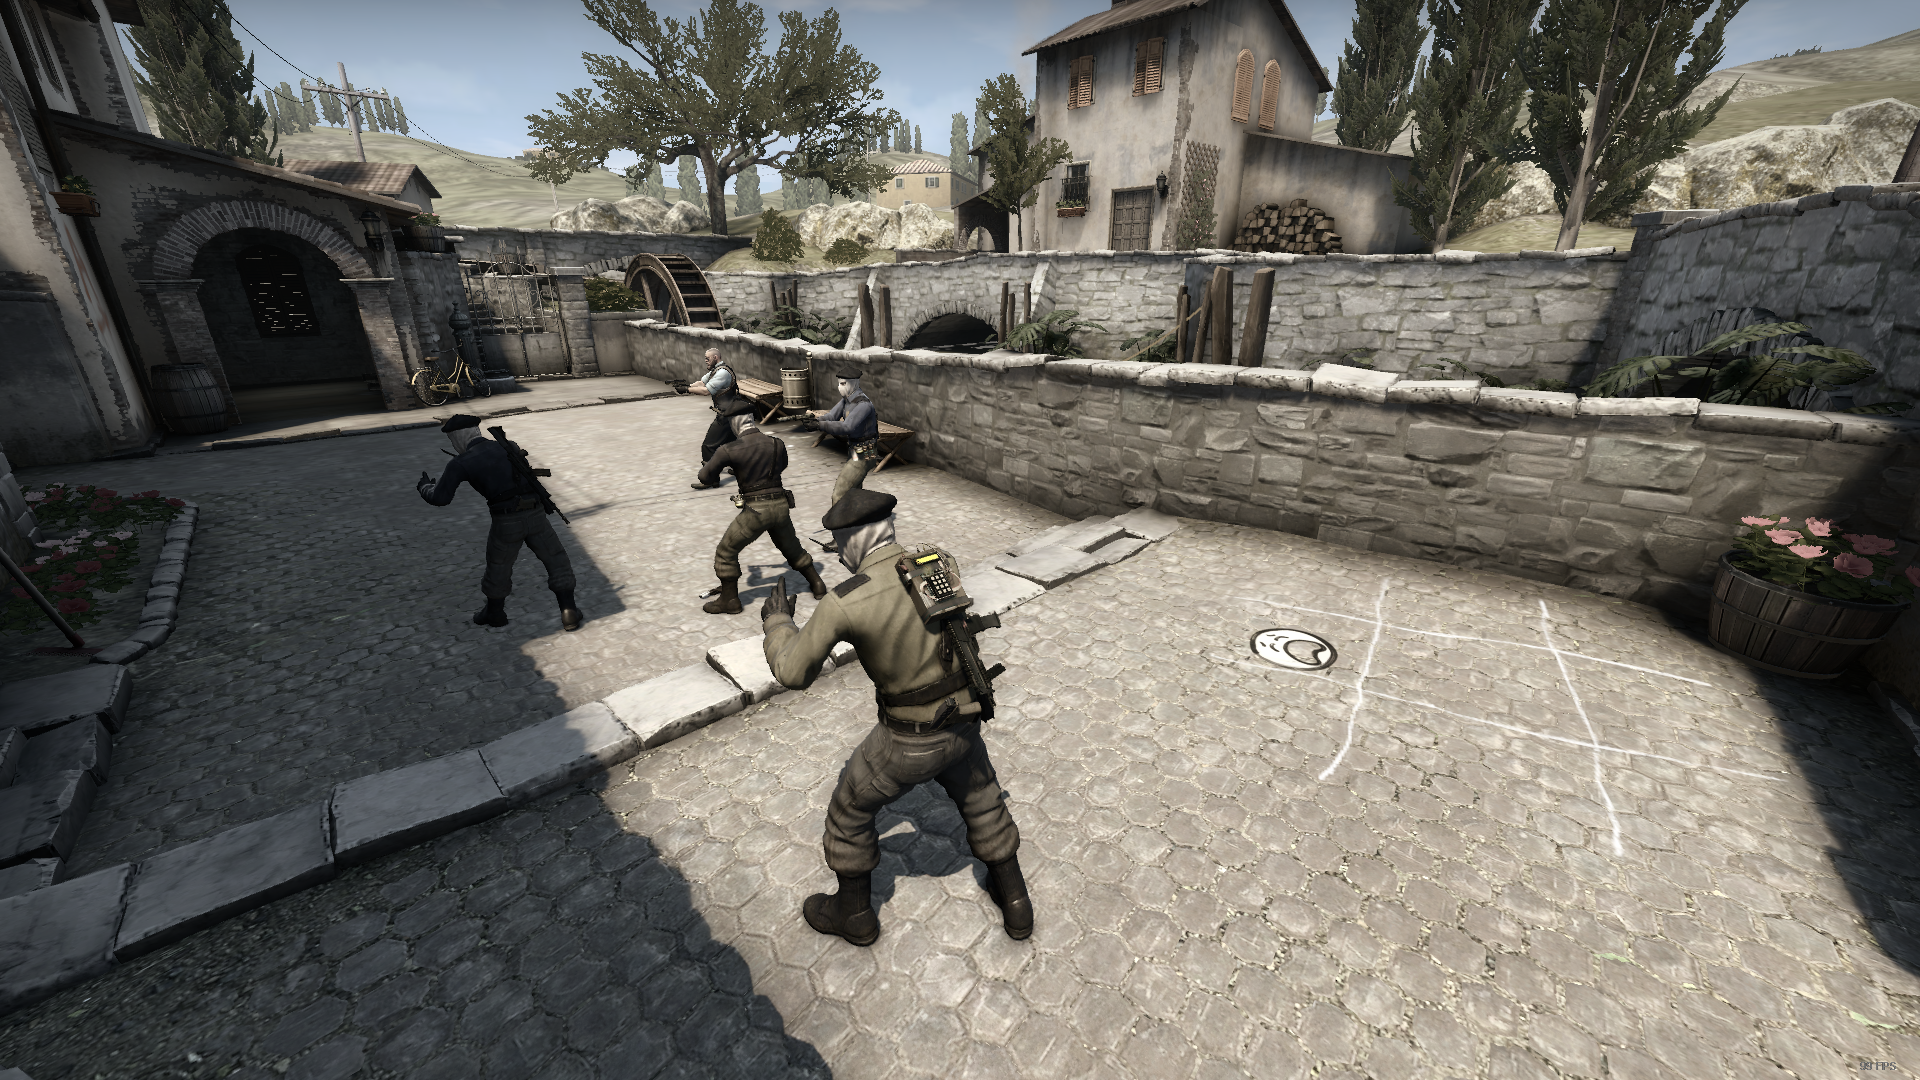t: (397, 394, 593, 658), (793, 343, 913, 495)
